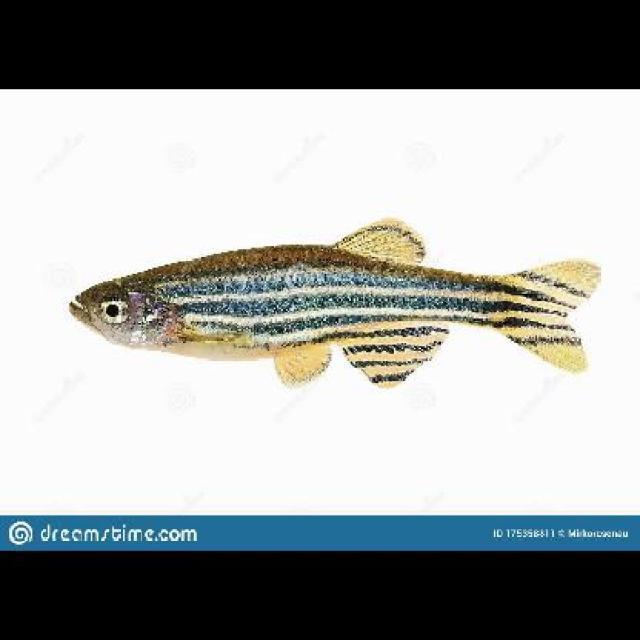ZebraFish: (62, 218, 602, 382)
